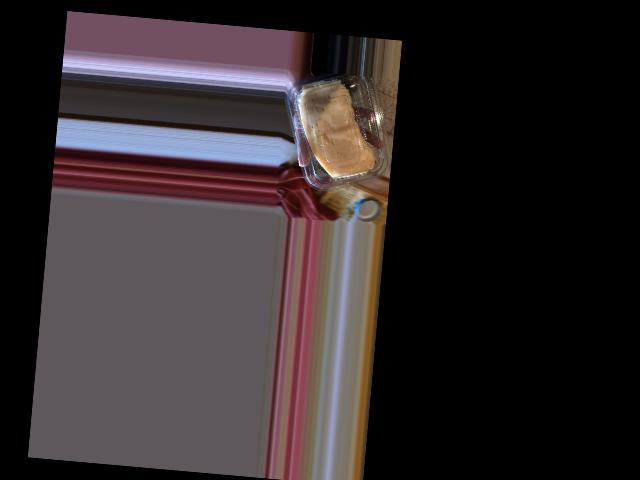cheese: (284, 68, 392, 197)
